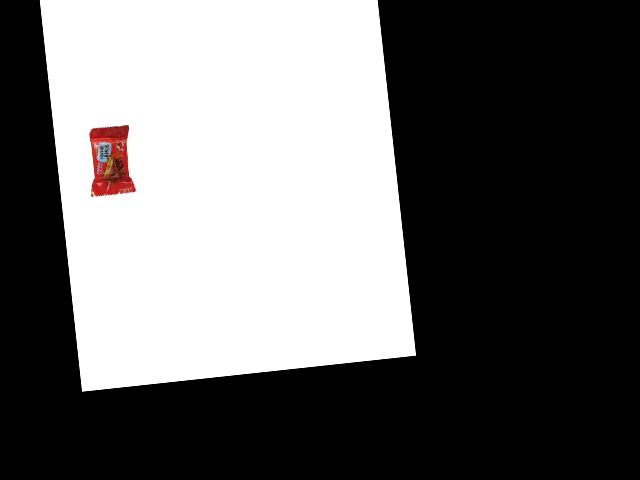chocolate: (79, 118, 135, 198)
